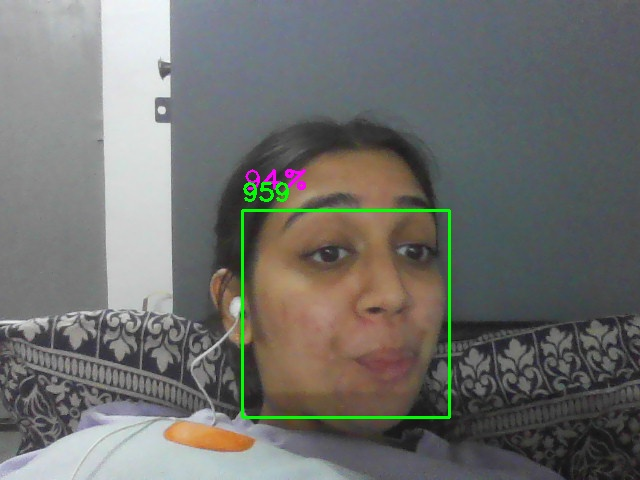real: (242, 210, 450, 418)
